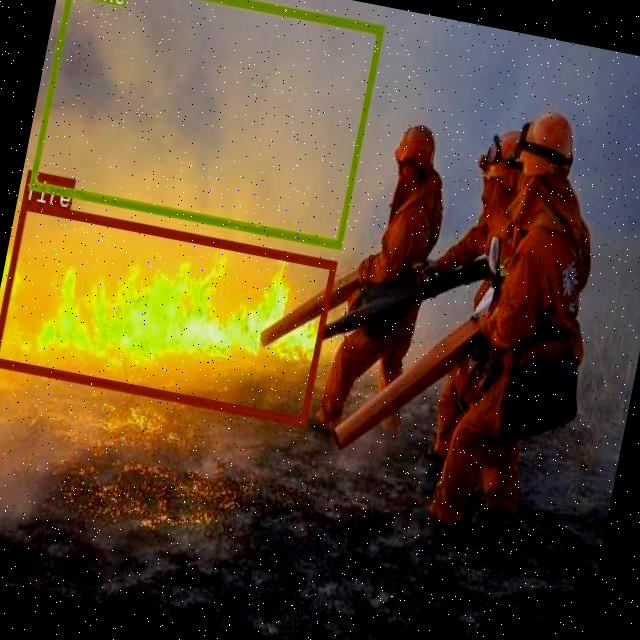fire: (0, 199, 336, 424)
smoke: (28, 0, 383, 247)
